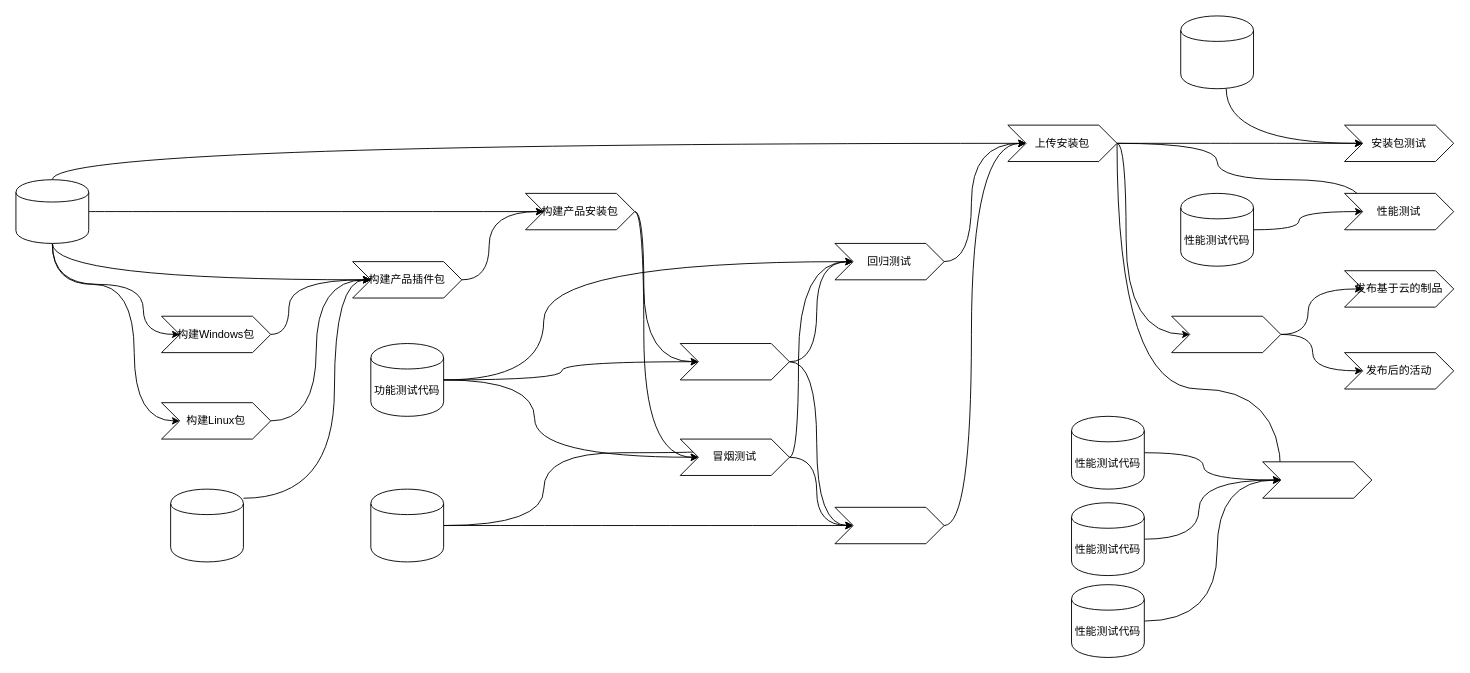
This 1470x673 diagram has some shape labels left out. Here are the shapes that lost their labels. From the top down, the centre of each, then its label:
the point at 1217,52: 安装测试代码
the point at 52,211: 产品代码库
the point at 1226,334: 发布稳定版本
the point at 734,361: Linux验收测试
the point at 1317,479: Docker版本
the point at 206,525: 插件代码
the point at 407,525: Ruby功能测试代码
the point at 889,525: 回归测试_SPA
